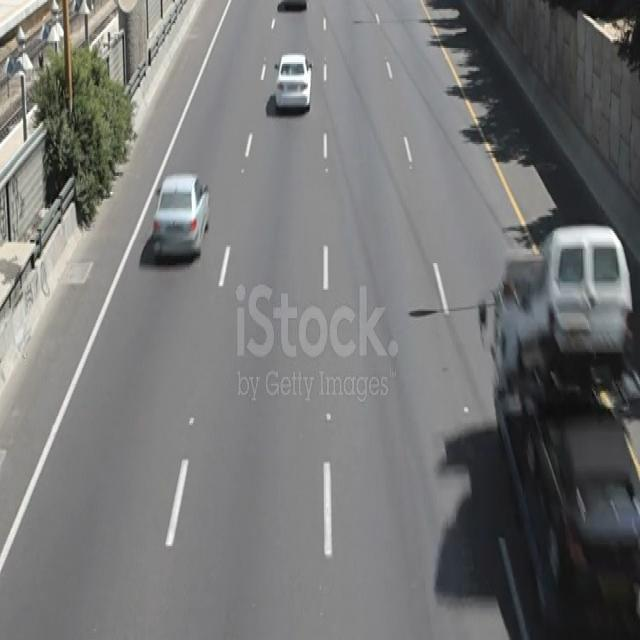Car: (151, 170, 214, 268), (270, 47, 316, 110)
Truck: (485, 207, 640, 640)
